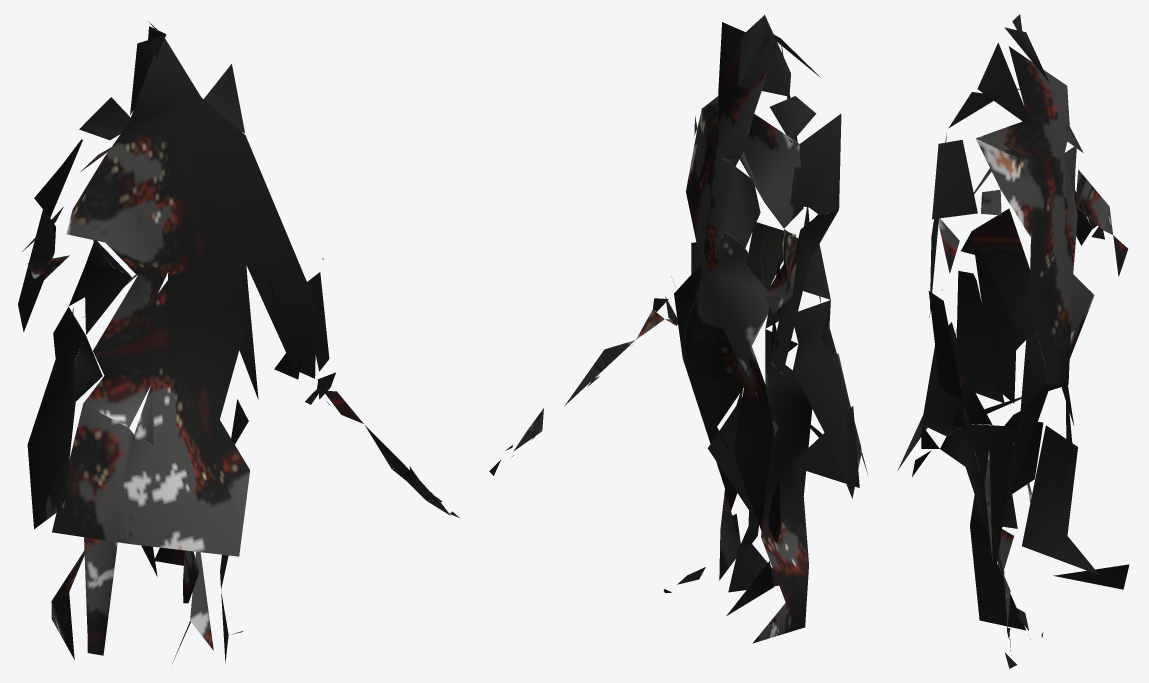
The picture shows the model from 3 angles, left to right: view 1: azimuth 30°, elevation 25°; view 2: azimuth 150°, elevation 25°; view 3: azimuth 270°, elevation 25°; orthographic projection. The views are drawn at different scales.
Parts seen in each view (by area): view 1: body.002; view 2: body.002; view 3: body.002.
Boxes of the visible parts, box(x1,y1,x2,y2) form: body.002: box(18, 21, 459, 663); body.002: box(489, 15, 867, 643); body.002: box(897, 14, 1129, 668).
Bounding box in the file's own units: 1.34 × 2.02 × 0.7314.
1 material, 1 textured.
